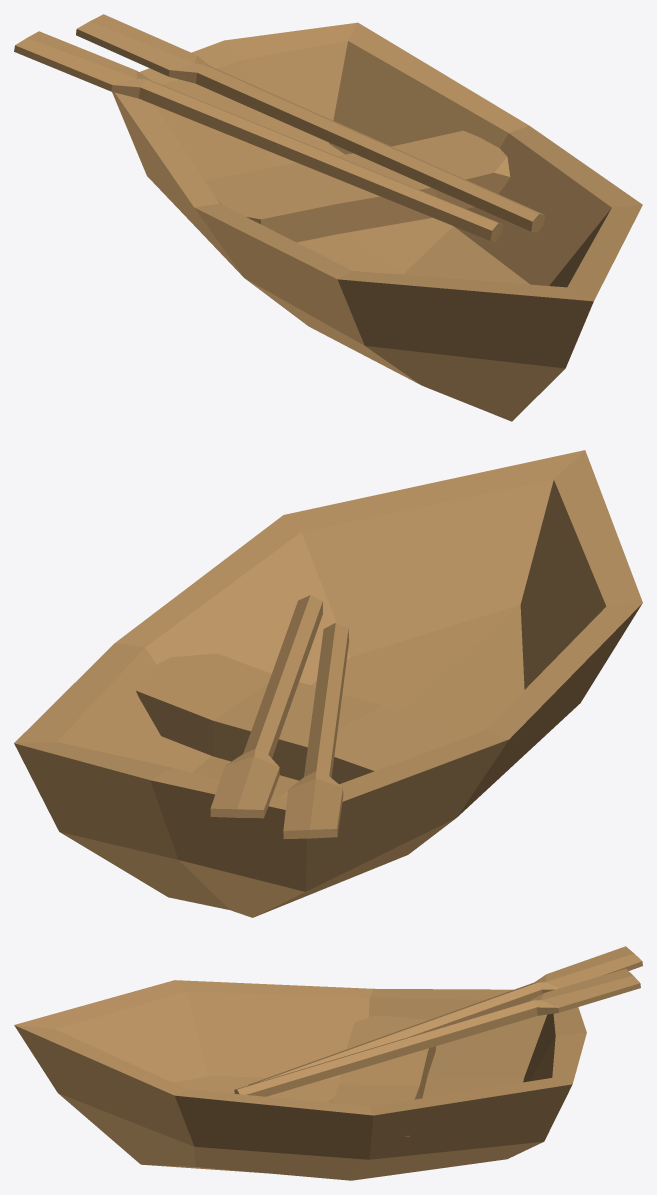
The model's file is Boat.fbx.
The picture shows the model from 3 angles, top to bottom: view 1: azimuth 30°, elevation 25°; view 2: azimuth 150°, elevation 25°; view 3: azimuth 270°, elevation 25°; orthographic projection. The views are drawn at different scales.
Parts seen in each view (by area): view 1: Boat, Boat_Seat, Oar.001, Oar; view 2: Boat, Boat_Seat, Oar.001, Oar; view 3: Boat, Oar.001, Boat_Seat, Oar.
Boxes of the visible parts, bbox=[...] form: Boat: bbox=[112, 22, 642, 421]; Boat_Seat: bbox=[206, 130, 510, 242]; Oar.001: bbox=[76, 14, 544, 232]; Oar: bbox=[14, 31, 503, 242]; Boat: bbox=[14, 450, 642, 917]; Boat_Seat: bbox=[136, 653, 460, 784]; Oar.001: bbox=[210, 595, 322, 818]; Oar: bbox=[283, 623, 349, 838]; Boat: bbox=[14, 980, 586, 1180]; Oar.001: bbox=[234, 969, 640, 1096]; Boat_Seat: bbox=[333, 1015, 435, 1137]; Oar: bbox=[248, 946, 642, 1084].
Bounding box in the file's own units: 141 × 79.54 × 281.
